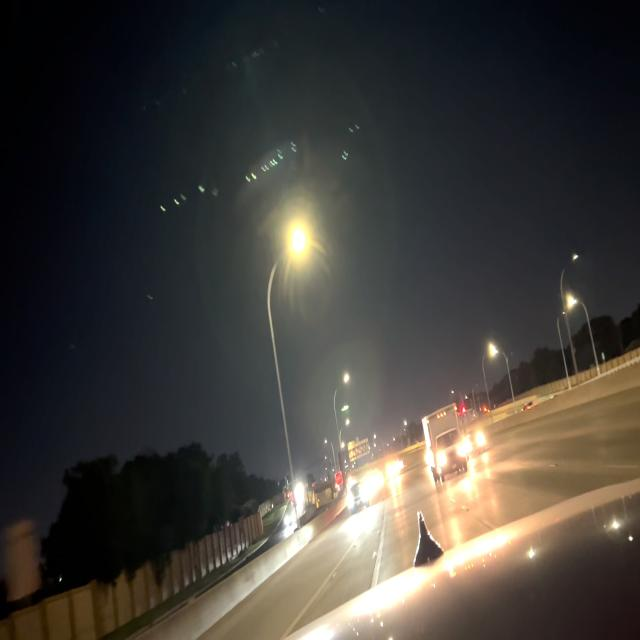back-of-sign: (347, 435, 371, 465)
